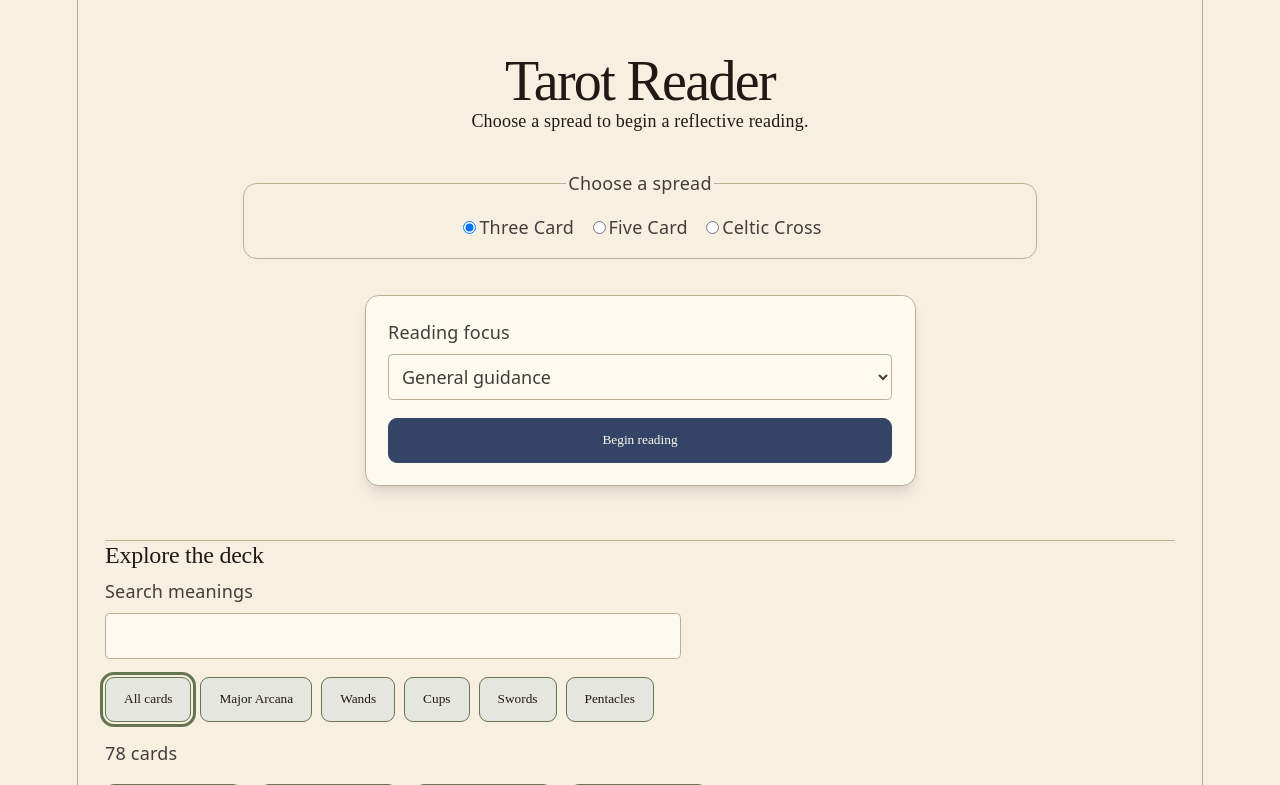
it: uses the selected focus in the active reading narrative
Select "Relationships" in the dropdown labelled "Reading focus" at (640, 377), box [388,354,892,400]
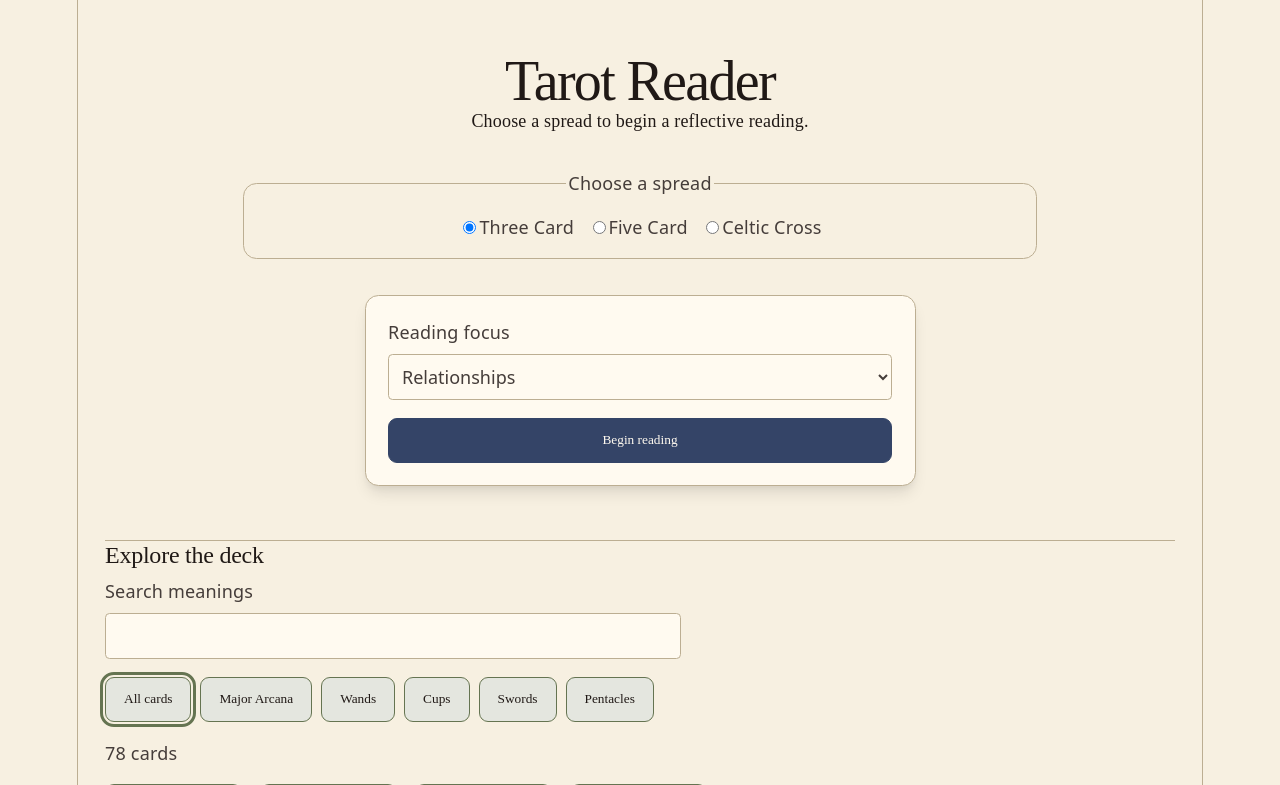
Click the button "Begin reading".
click(640, 440)  # box [388,418,892,463]
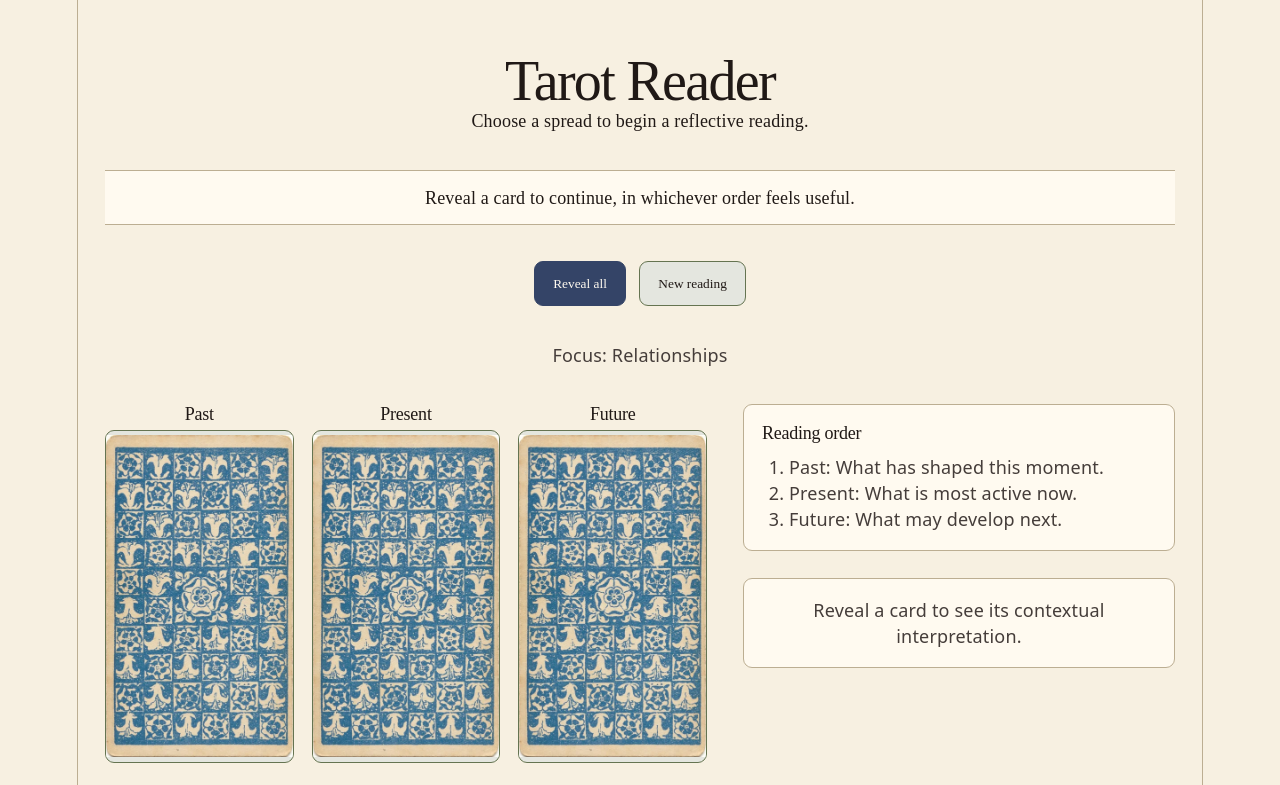
Now the text "Focus: Relationships" is shown, box [552,343,728,367]
Click the button named "past: face down".
click(199, 596)  # box [105,430,294,762]
(page scrolled)
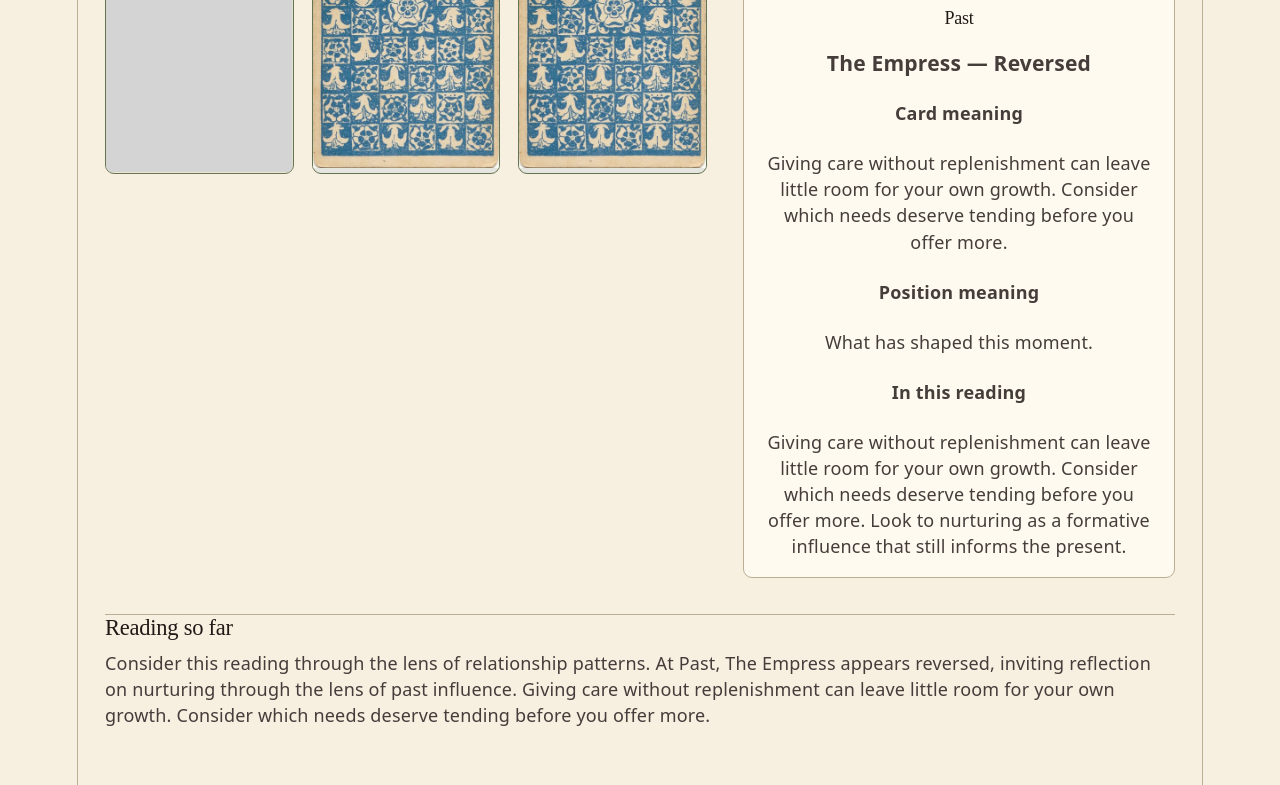
Now the element "Reading so far" shows "lens of relationship patterns", box [105,651,1151,727]
